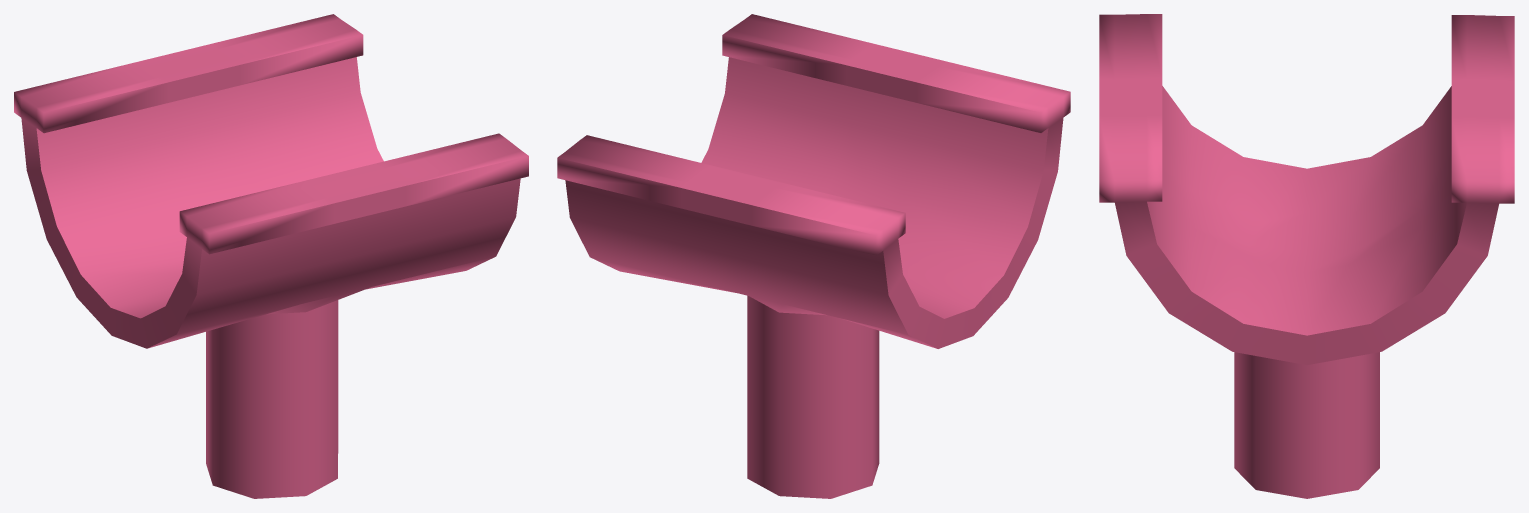
Rendered from tuberia.fbx.
The picture shows the model from 3 angles, left to right: view 1: azimuth 30°, elevation 25°; view 2: azimuth 150°, elevation 25°; view 3: azimuth 270°, elevation 25°; orthographic projection. The views are drawn at different scales.
Visible parts, largest first — view 1: tuberia; view 2: tuberia; view 3: tuberia.
Boxes of the visible parts, box(x1,y1,x2,y2) form: tuberia: box(14, 14, 528, 498); tuberia: box(557, 14, 1070, 498); tuberia: box(1099, 14, 1514, 498).
Size of the model in its own units: 390 by 415 by 410.
